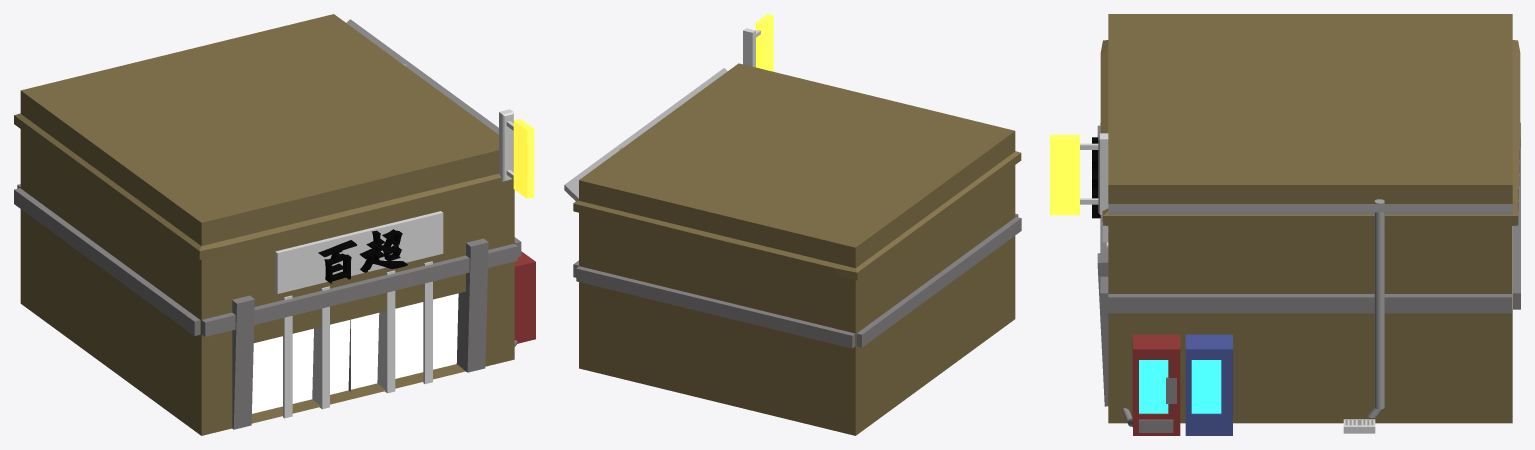
3 renders of one model, left to right at view 1: azimuth 30°, elevation 25°; view 2: azimuth 150°, elevation 25°; view 3: azimuth 270°, elevation 25°, orthographic. The views are drawn at different scales.
Visible parts, largest first — view 1: Cube, Cube.004, Cube.026, Cube.006, Cube.011, Cube.020, Cube.005, Text, Cube.017, Cube.023, Cube.015, Cube.024 (+4 smaller); view 2: Cube, Cube.009, Cube.011, Cube.002, Cube.015, Cube.012; view 3: Cube, Cube.010, Cube.002, Cube.007, Cube.017, Cube.015, Cylinder.001, Cube.008, Cube.016, Cube.020, Cube.009, Cube.012 (+4 smaller).
Part boxes in pixels (x1,y1,x2,y2): Cube: (14, 14, 514, 435); Cube.004: (252, 293, 458, 413); Cube.026: (275, 211, 443, 293); Cube.006: (201, 243, 517, 336); Cube.011: (14, 188, 200, 335); Cube.020: (456, 238, 488, 372); Cube.005: (232, 295, 254, 429); Text: (318, 229, 407, 283); Cube.017: (514, 251, 535, 343); Cube.023: (377, 270, 395, 393); Cube.015: (513, 119, 534, 198); Cube.024: (312, 286, 329, 409); Cube: (573, 63, 1021, 435); Cube.009: (576, 266, 855, 348); Cube.011: (856, 217, 1021, 347); Cube.002: (564, 68, 727, 201); Cube.015: (755, 14, 773, 71); Cube.012: (743, 28, 755, 67); Cube: (1100, 14, 1520, 423); Cube.010: (1108, 294, 1511, 313); Cube.002: (1108, 204, 1512, 214); Cube.007: (1185, 334, 1232, 435); Cube.017: (1132, 334, 1180, 435); Cube.015: (1050, 134, 1079, 215); Cylinder.001: (1368, 199, 1384, 417); Cube.008: (1191, 360, 1221, 413); Cube.016: (1139, 360, 1168, 413); Cube.020: (1097, 253, 1108, 406); Cube.009: (1513, 122, 1520, 309); Cube.012: (1098, 133, 1108, 214).
Size of what is drawn, in the model's own units: 14.06 by 9.65 by 14.5.
